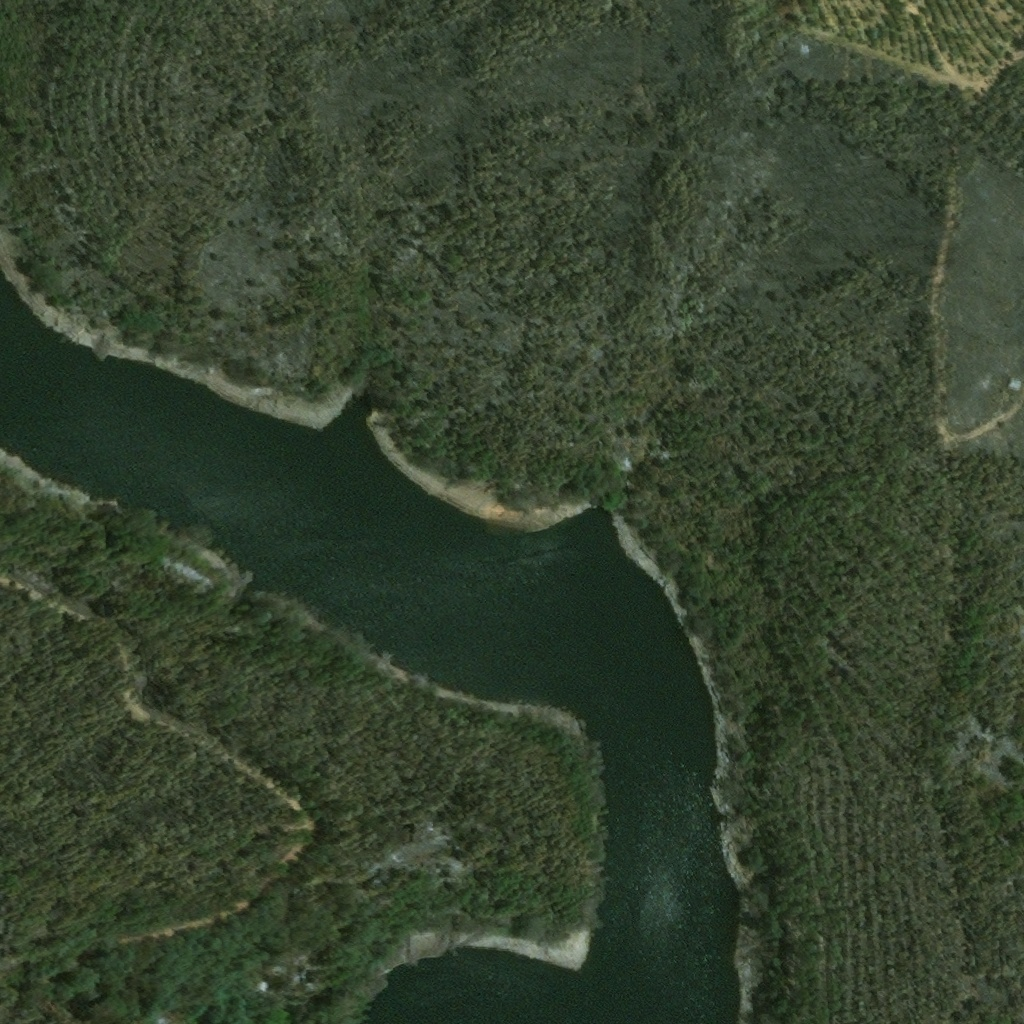0 no-damage: (1008, 377, 1023, 391), (775, 5, 791, 16)
